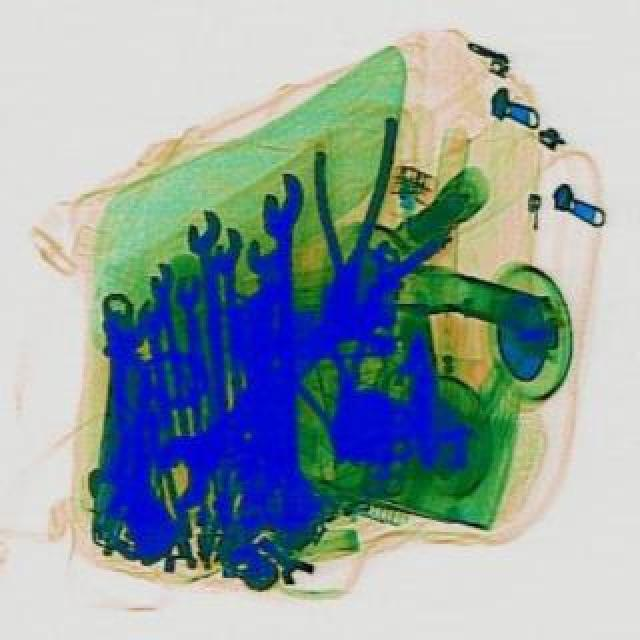scissors: (130, 296, 366, 514), (80, 288, 176, 566), (256, 170, 308, 342), (184, 206, 228, 398), (208, 226, 252, 402), (144, 260, 180, 344), (172, 272, 202, 364)
wrench: (300, 112, 396, 314)
